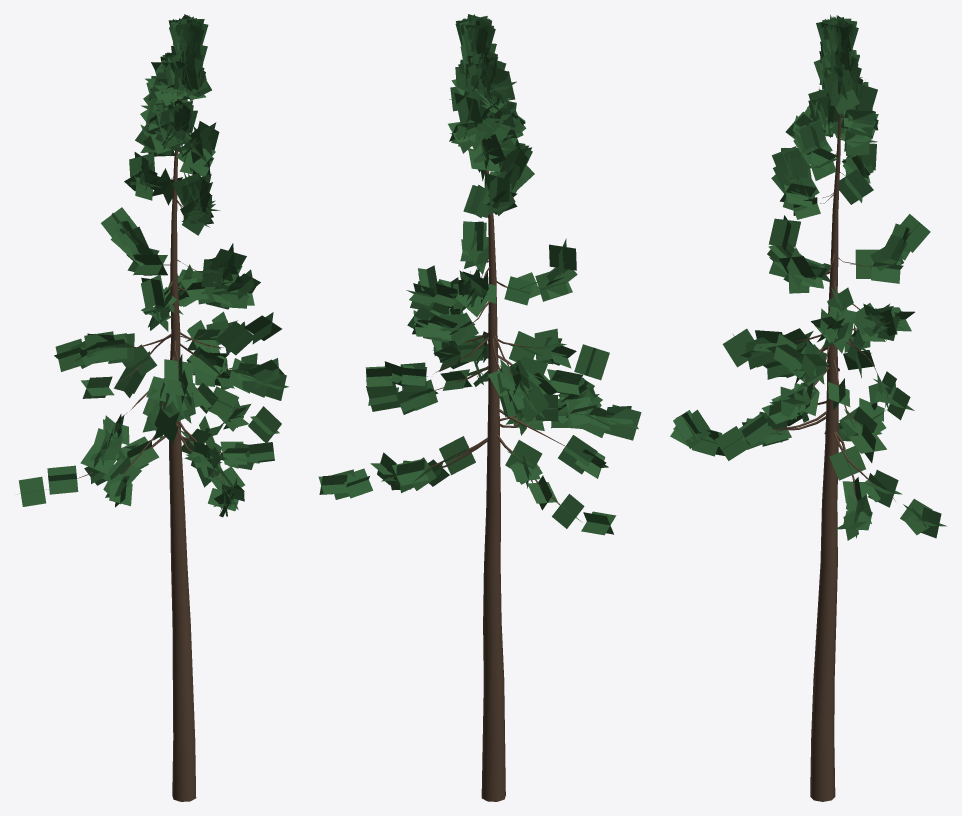
Rendered from pine-1-lod1.glb.
3 renders of one model, left to right at view 1: azimuth 30°, elevation 25°; view 2: azimuth 150°, elevation 25°; view 3: azimuth 270°, elevation 25°, orthographic.
Visible parts, largest first — view 1: leaves, branches; view 2: leaves, branches; view 3: leaves, branches.
Part boxes in pixels (box(x1,y1,x2,y2)): leaves: box(17, 14, 288, 517); branches: box(75, 99, 242, 801); leaves: box(318, 14, 641, 535); branches: box(389, 52, 573, 801); leaves: box(670, 14, 946, 540); branches: box(773, 113, 895, 801).
Size of the model in its own units: 17.49 by 49.6 by 15.92.
